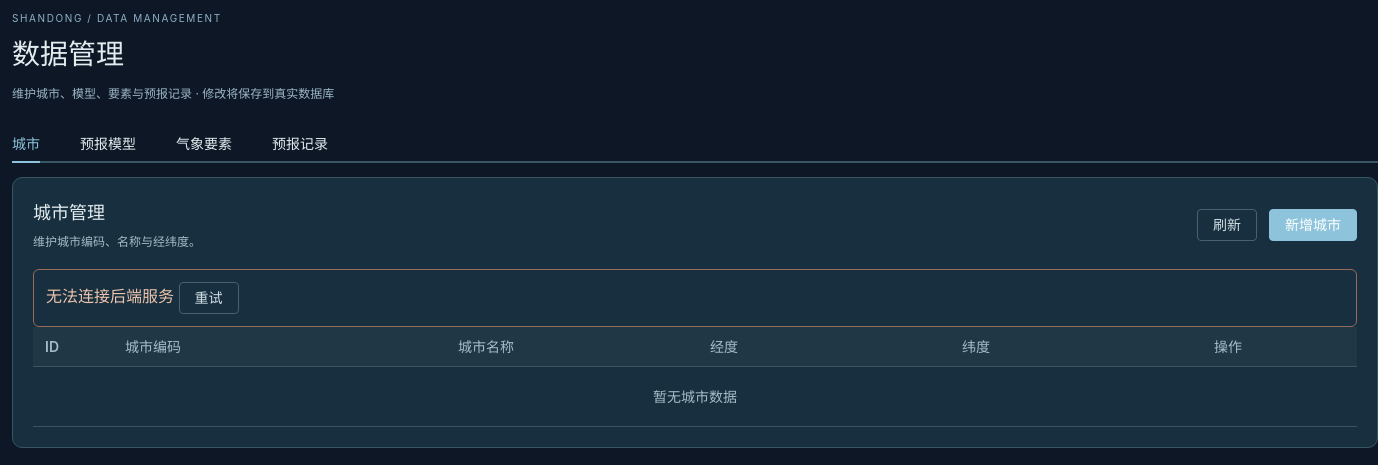
Test: failed City GET does not block other tabs
Click the tab "预报模型" at [108, 144], box [80,135,136,152]
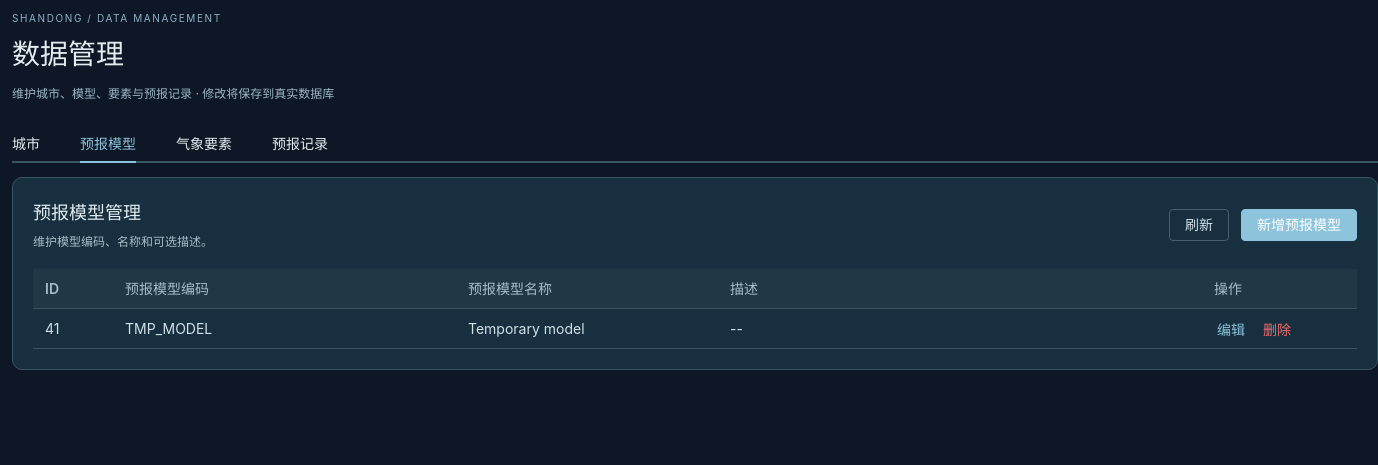
Expected: the element named "预报模型管理" shows "Temporary model", [468,320,584,337]
